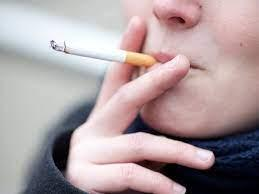smoke: (50, 39, 157, 67)
